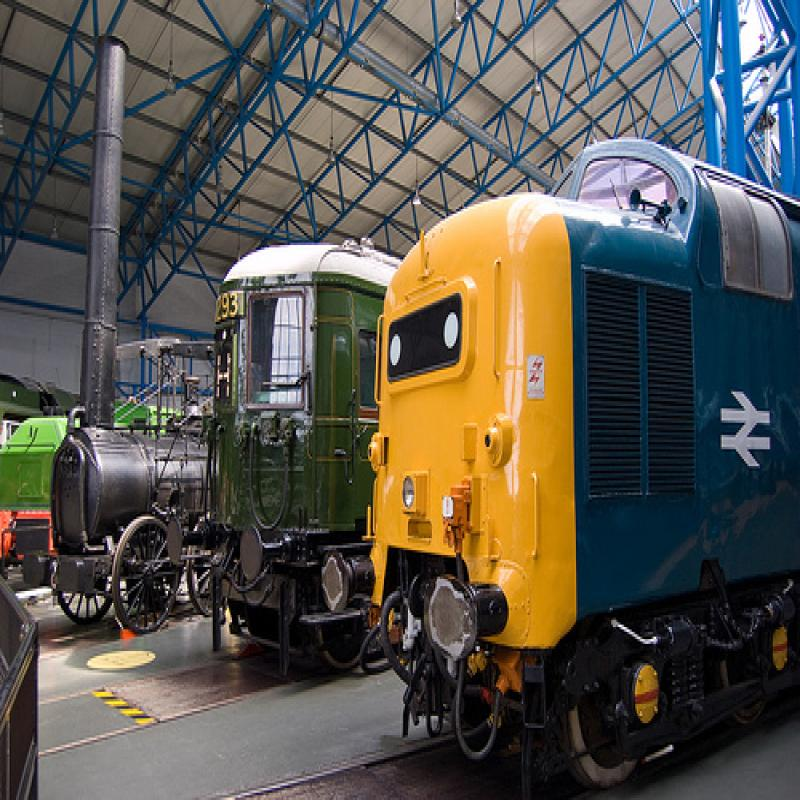train: (321, 138, 799, 791), (168, 239, 403, 686), (51, 25, 219, 640)
